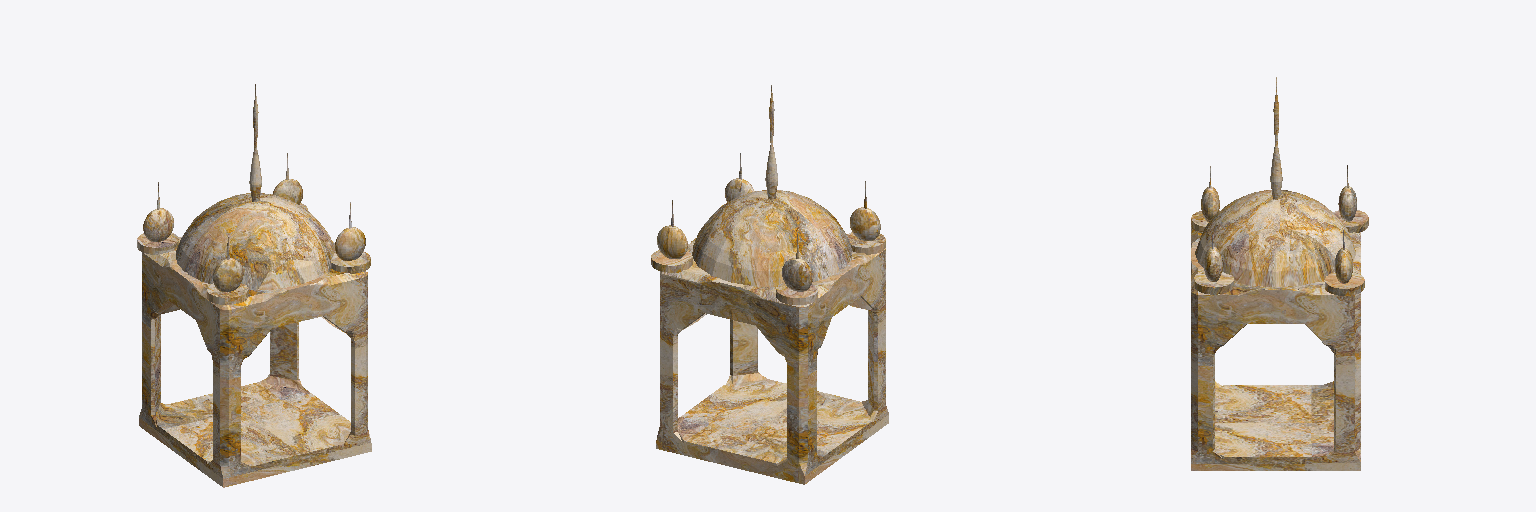
3 views of the same model, side by side, from view 1: azimuth 30°, elevation 25°; view 2: azimuth 150°, elevation 25°; view 3: azimuth 270°, elevation 25° (orthographic).
Visible parts, largest first — view 1: polySurface5; view 2: polySurface5; view 3: polySurface5.
Part boxes in pixels (left/top/right/bottom): polySurface5: left=137, top=84, right=371, bottom=487; polySurface5: left=651, top=85, right=888, bottom=484; polySurface5: left=1191, top=77, right=1368, bottom=470.
Size of the model in its own units: 6.67 by 14.07 by 6.27.
1 materials, 1 textured.